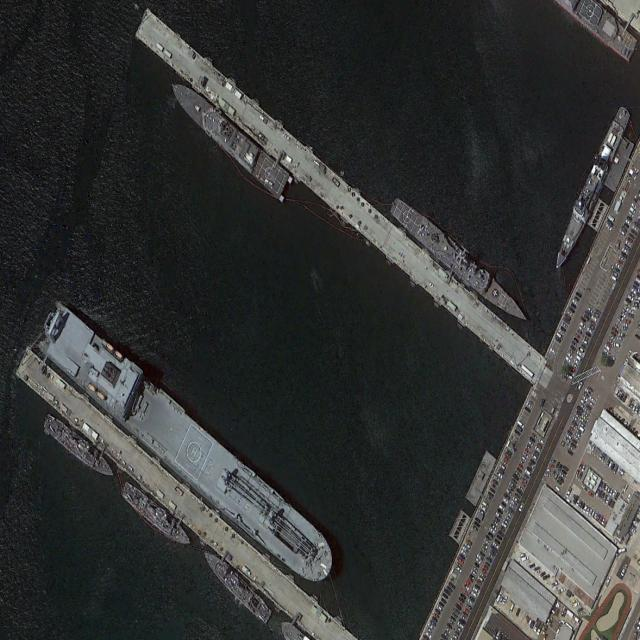Frigate: (387, 191, 532, 330)
Other Ship: (34, 293, 342, 598), (166, 73, 290, 199), (551, 102, 632, 276), (198, 542, 272, 626), (118, 476, 194, 553), (39, 409, 117, 483)
